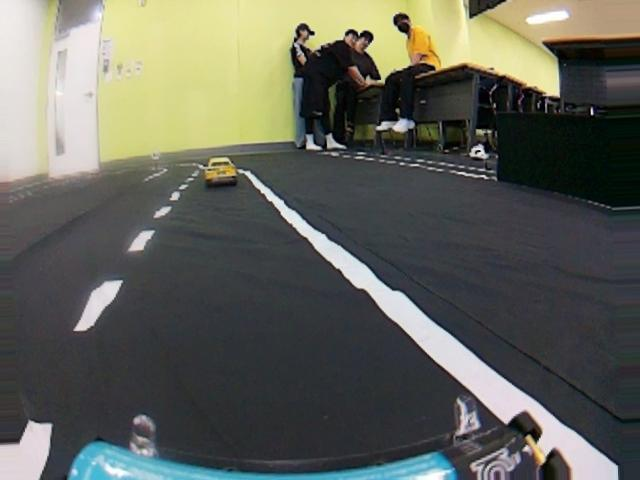car: (204, 153, 243, 189)
straight: (0, 194, 629, 479)
